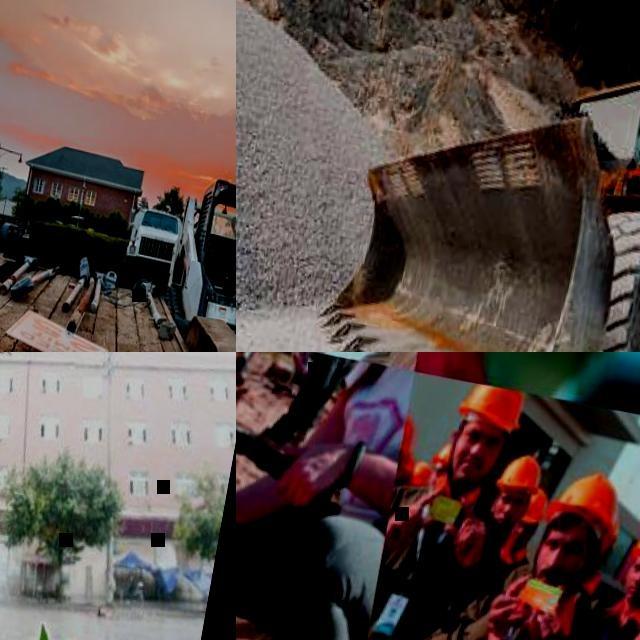Hardhat: (547, 462, 628, 536), (455, 377, 533, 433), (488, 448, 544, 493), (519, 488, 552, 527), (397, 412, 420, 458), (405, 457, 435, 485), (626, 519, 640, 563), (434, 441, 450, 470)
NO-Mask: (449, 449, 494, 490), (534, 559, 581, 594), (491, 509, 516, 530), (623, 574, 640, 601), (508, 533, 528, 550)
NO-Safety Vest: (360, 477, 483, 640), (316, 370, 412, 520), (403, 582, 576, 640), (579, 599, 640, 640), (493, 543, 527, 587)
Person: (236, 352, 415, 640), (380, 434, 619, 640), (348, 368, 511, 640), (536, 404, 640, 640), (0, 352, 80, 640), (566, 511, 640, 640), (488, 487, 548, 591), (485, 448, 539, 547), (581, 515, 622, 600), (396, 413, 427, 496), (410, 454, 434, 494), (236, 352, 263, 380)
machinery: (307, 21, 640, 352), (152, 170, 236, 352), (122, 202, 185, 275)
